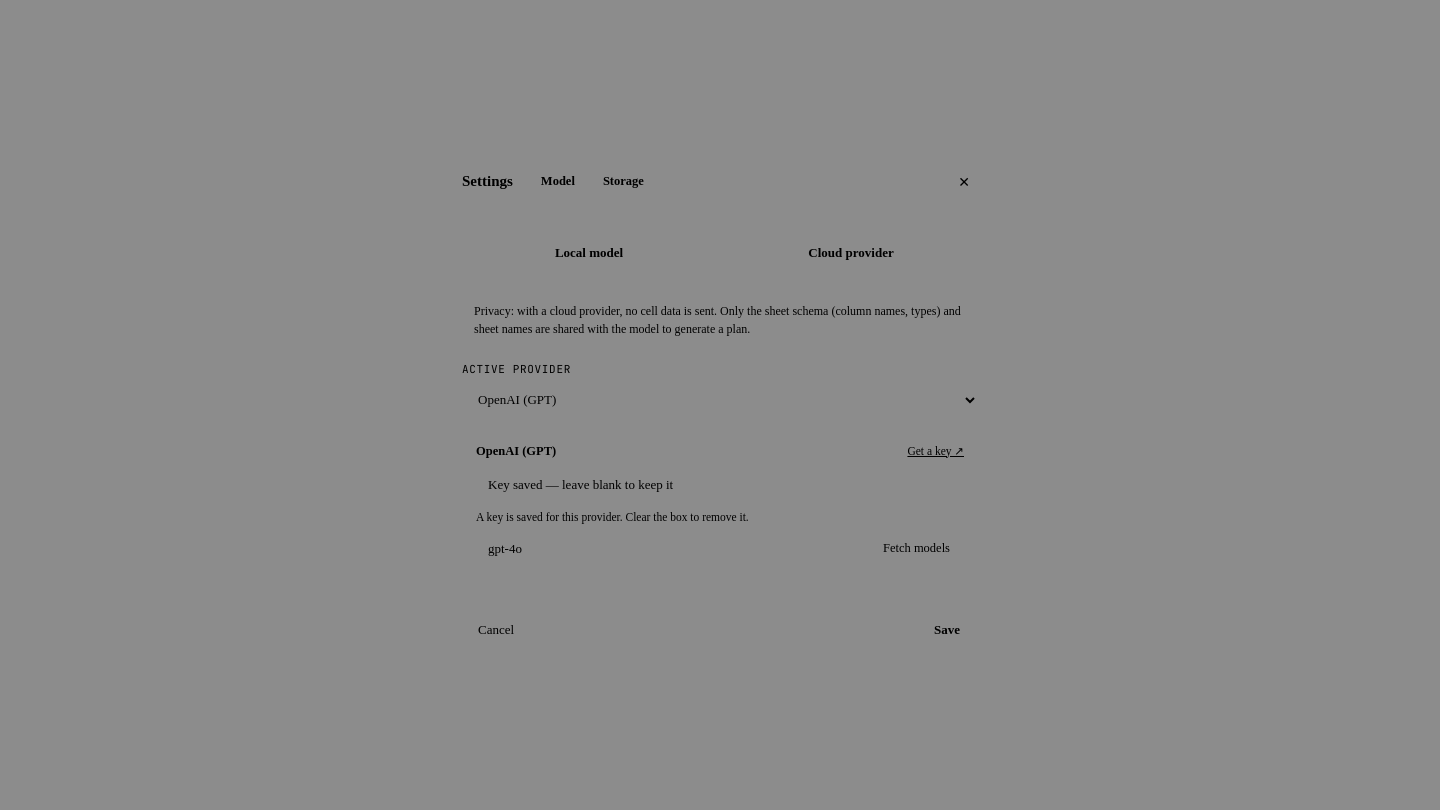
Test: SettingsPanel storage › shows what is on the disk, and where it is being written
What coordinates should you click on to do the following:
click the button "Storage"
I would click on:
 (623, 182)
Its box is [591, 168, 656, 196].
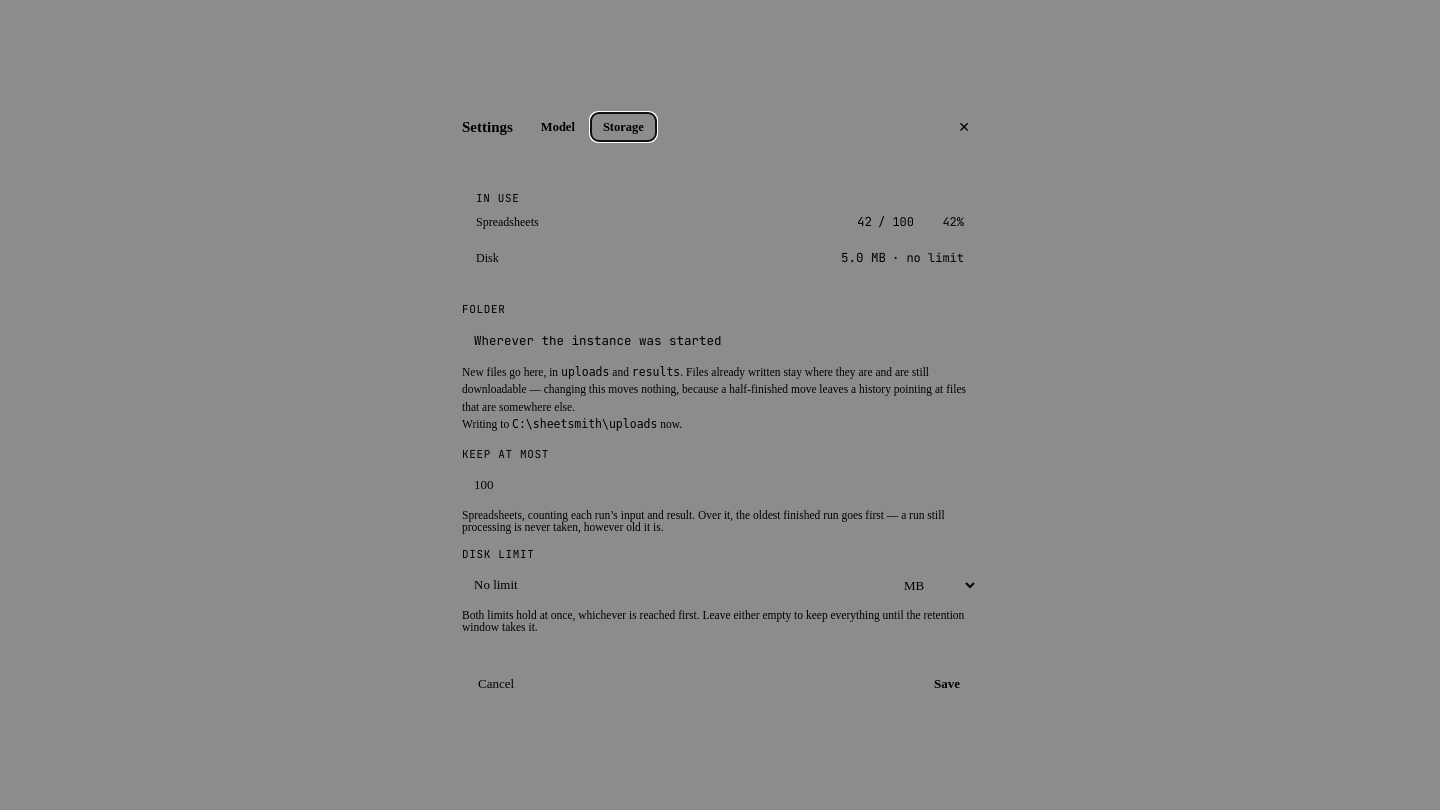
Now the text "5.0 MB" is shown, box [841, 249, 886, 266]
Now the text "42" is shown, box [857, 213, 872, 230]
Now the text "C:\\sheetsmith\\uploads" is shown, box [512, 417, 657, 431]
